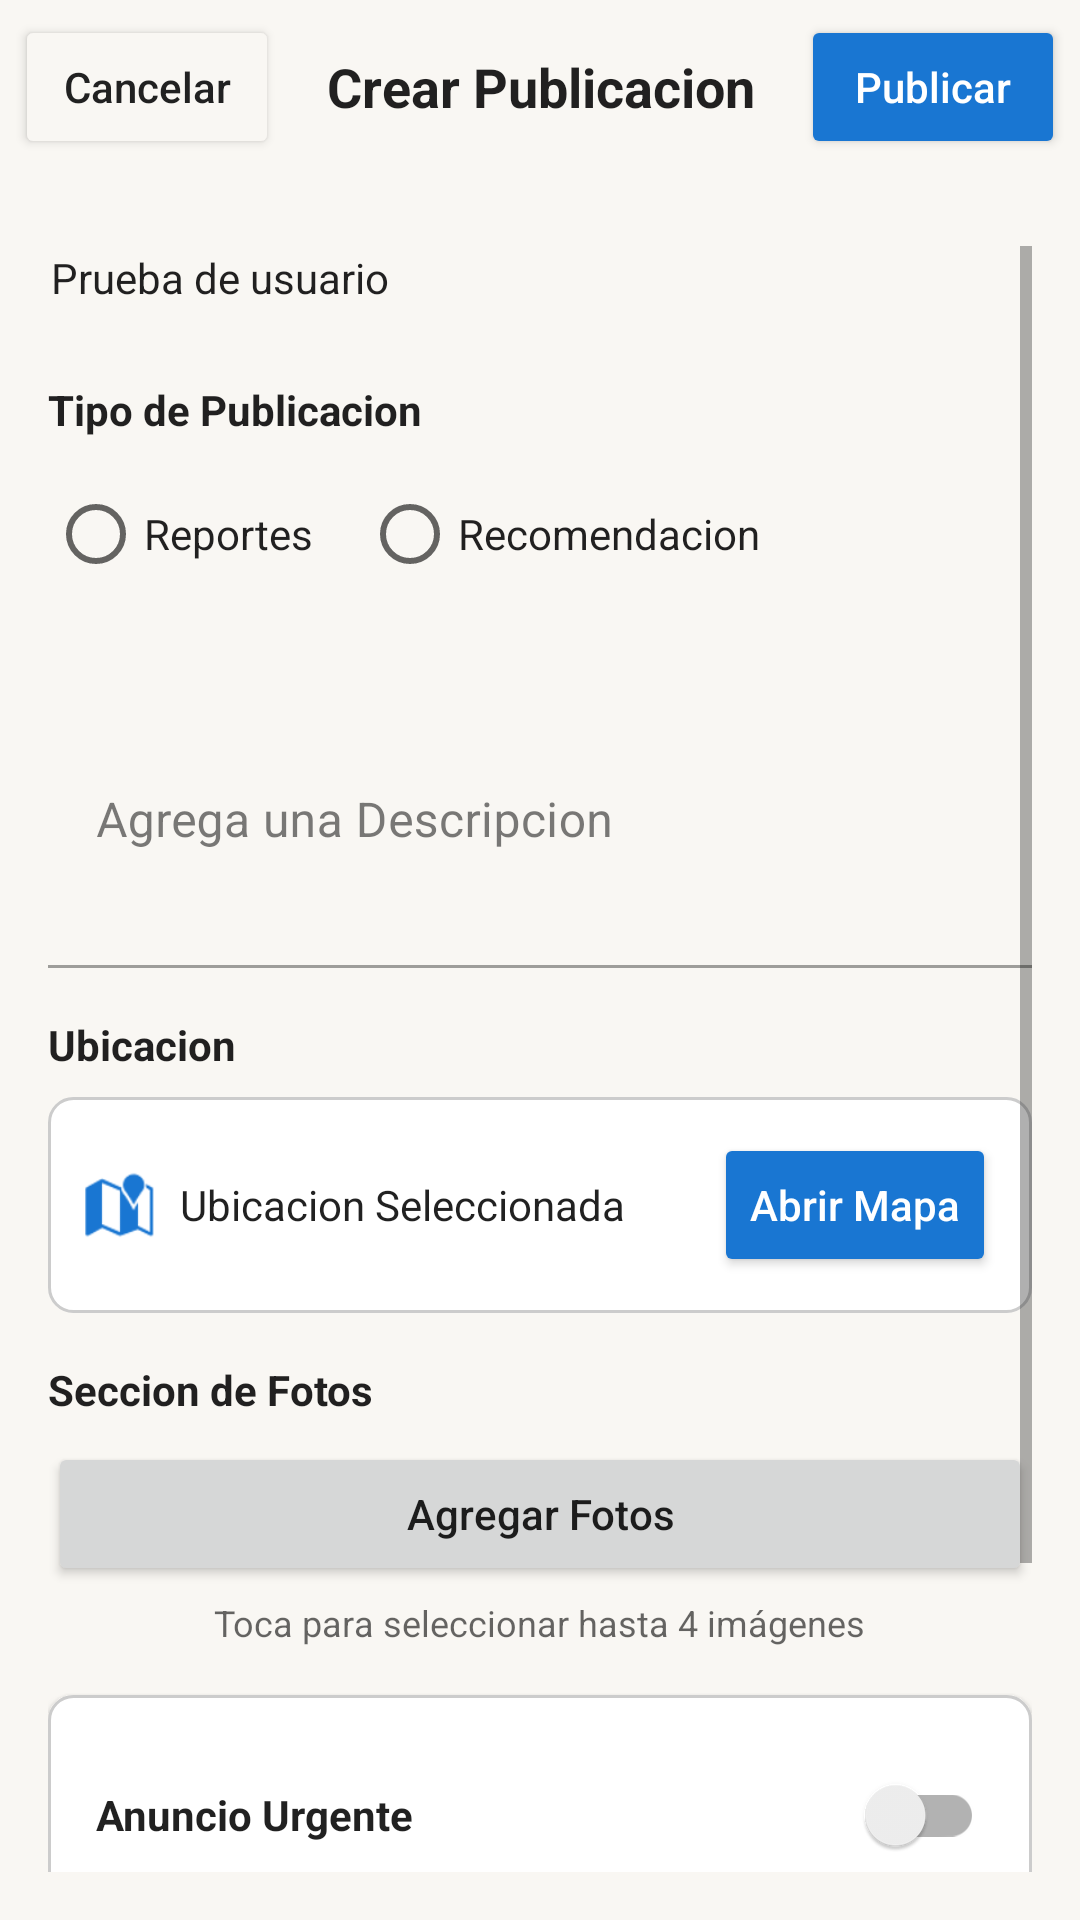

Locate icon controls on the screen. Image size 1080*1920, boxes as (x1, y1, x2, y2).
Mapa: (85, 1173, 154, 1237)
